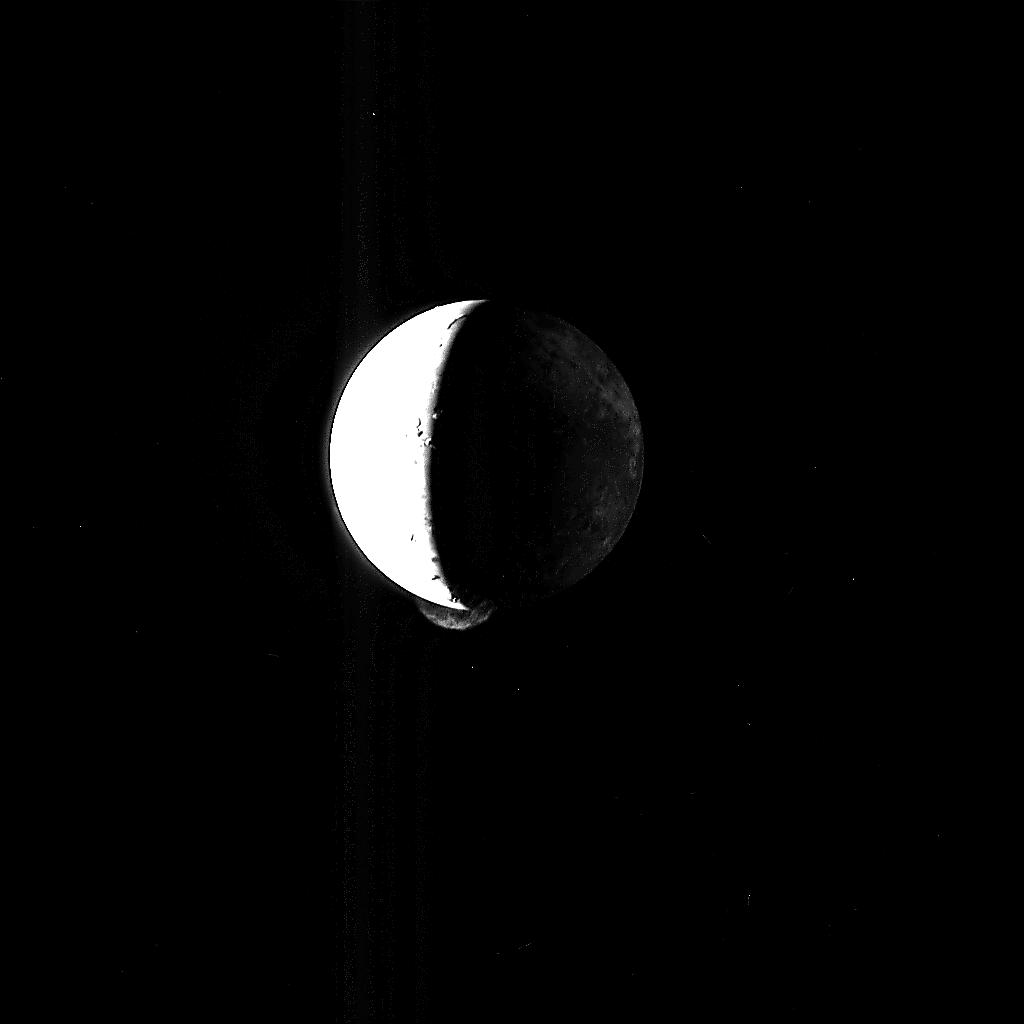plumes: (416, 596, 492, 630)
